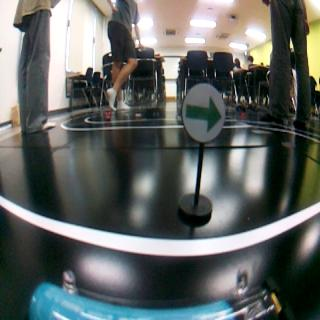right: (182, 84, 226, 142)
